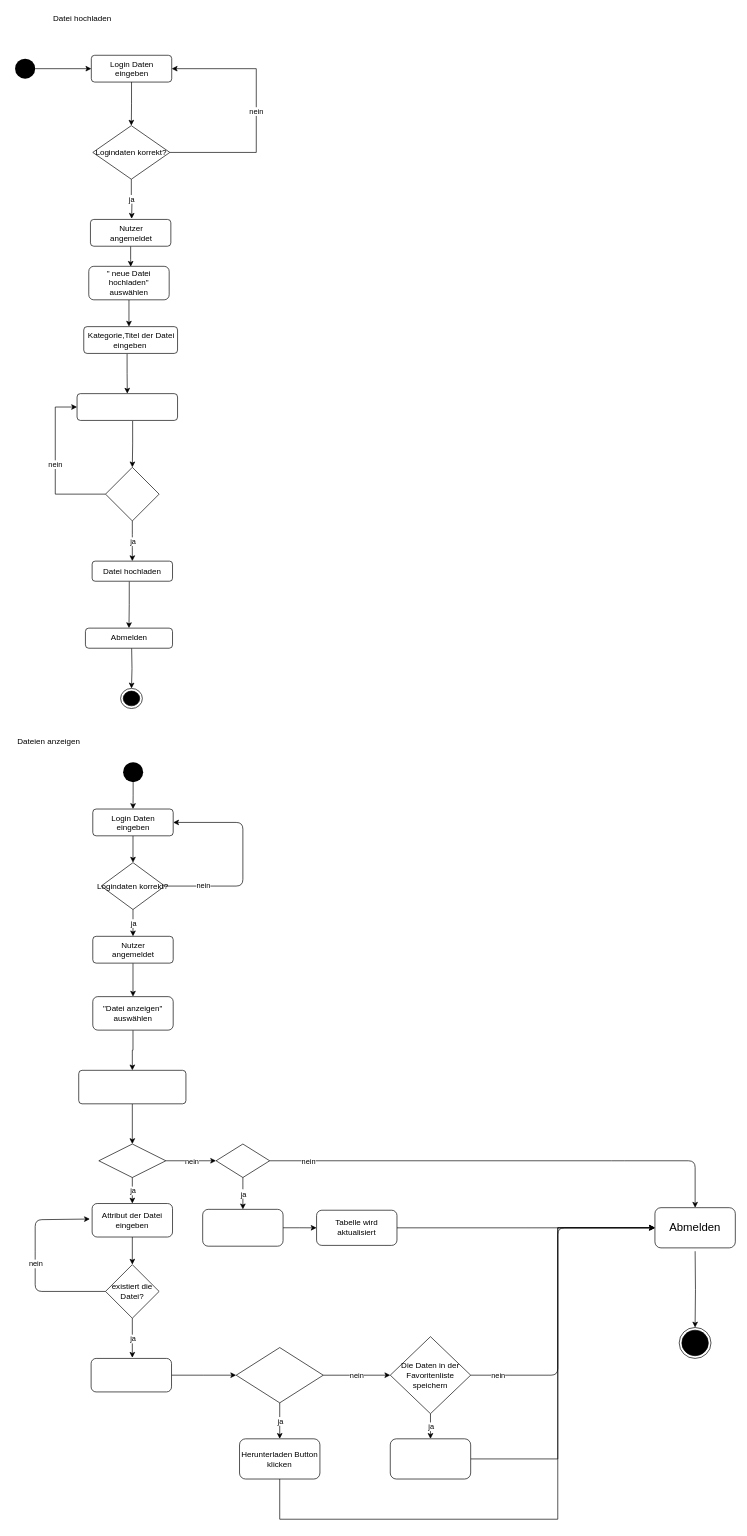
Image size: 747x1536. Some labels were removed from this diagram. Here are the shapes that lost their labels. From the top down, the centre of each, then its label:
At [127,406]: "Datei auswählen".
At [132,494]: "Datei korrekt?".
At [132,1087]: "Metadaten der von Usern hochgeladenen Dateien anzeigen".
At [132,1160]: "Datei suchen ?".
At [242,1160]: "Datei filtern?".
At [242,1227]: "Filterungskriterien auswählen".
At [131,1375]: "Medaten der Datei anzeigen".
At [279,1375]: "die Daten herunterladen".
At [430,1458]: "In Favoritenliste hizufügen".
